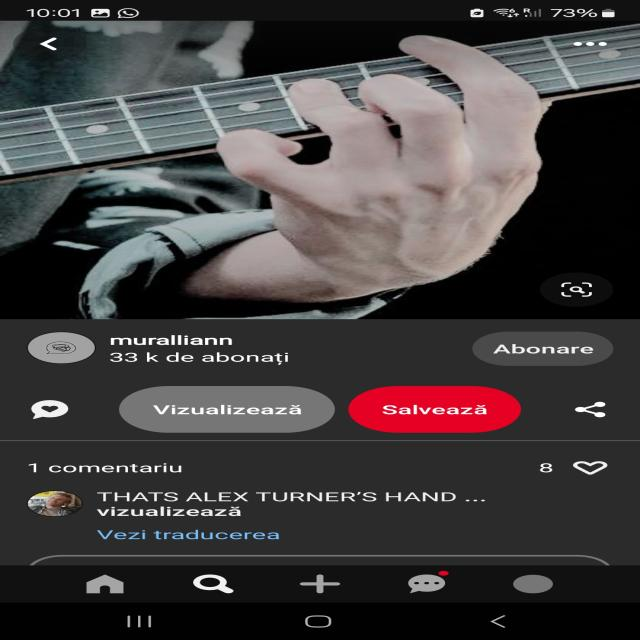hands: (213, 26, 592, 282)
